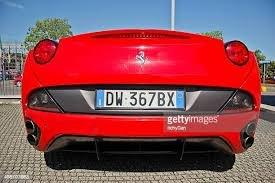license-plates: (96, 90, 185, 110)
